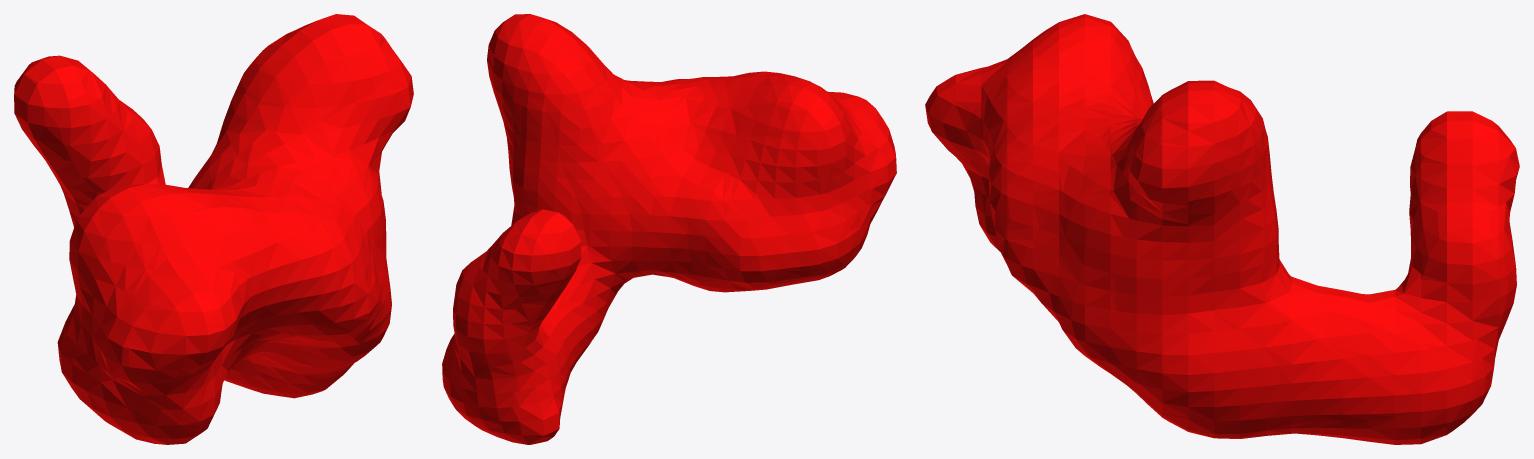
File: yciN_coarse.dae
The picture shows the model from 3 angles, left to right: view 1: azimuth 30°, elevation 25°; view 2: azimuth 150°, elevation 25°; view 3: azimuth 270°, elevation 25°; orthographic projection. The views are drawn at different scales.
Parts seen in each view (by area): view 1: yciN; view 2: yciN; view 3: yciN.
Part boxes in pixels (<box>): yciN: <box>14,14,413,444</box>; yciN: <box>442,14,896,444</box>; yciN: <box>925,14,1519,444</box>.
Size of the model in its own units: 38.72 by 37.85 by 51.9.
